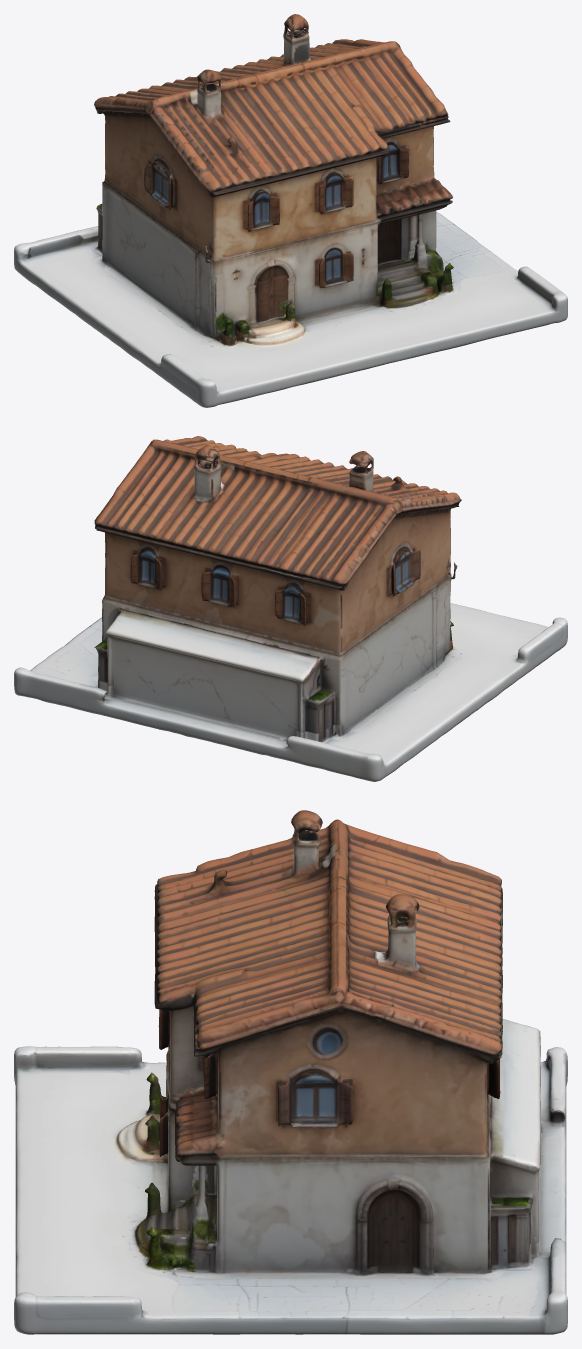
File: object_4.015_lev2.glb
The picture shows the model from 3 angles, top to bottom: view 1: azimuth 30°, elevation 25°; view 2: azimuth 150°, elevation 25°; view 3: azimuth 270°, elevation 25°; orthographic projection. The views are drawn at different scales.
Parts seen in each view (by area): view 1: object_4.015_lev2; view 2: object_4.015_lev2; view 3: object_4.015_lev2.
Boxes of the visible parts, bbox=[...] form: object_4.015_lev2: bbox=[14, 14, 567, 407]; object_4.015_lev2: bbox=[14, 436, 567, 781]; object_4.015_lev2: bbox=[14, 810, 567, 1334].
Bounding box in the file's own units: 72.54 × 45.45 × 66.21.
1 material, 1 textured.
